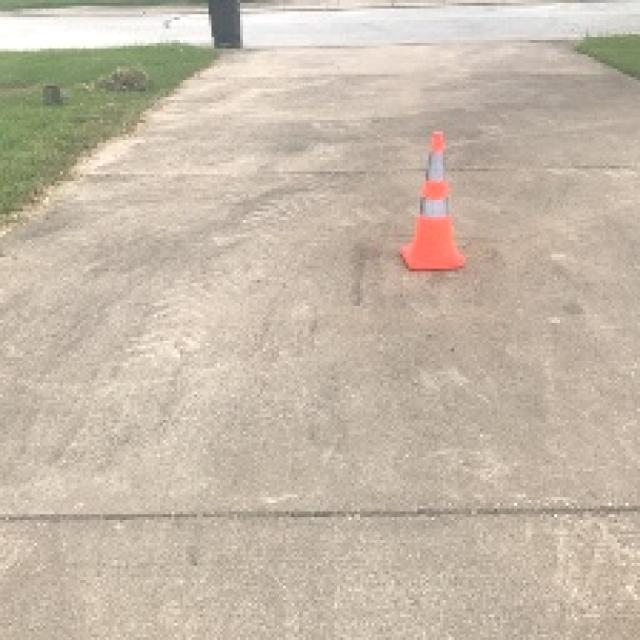traffic cone: (399, 131, 466, 272)
